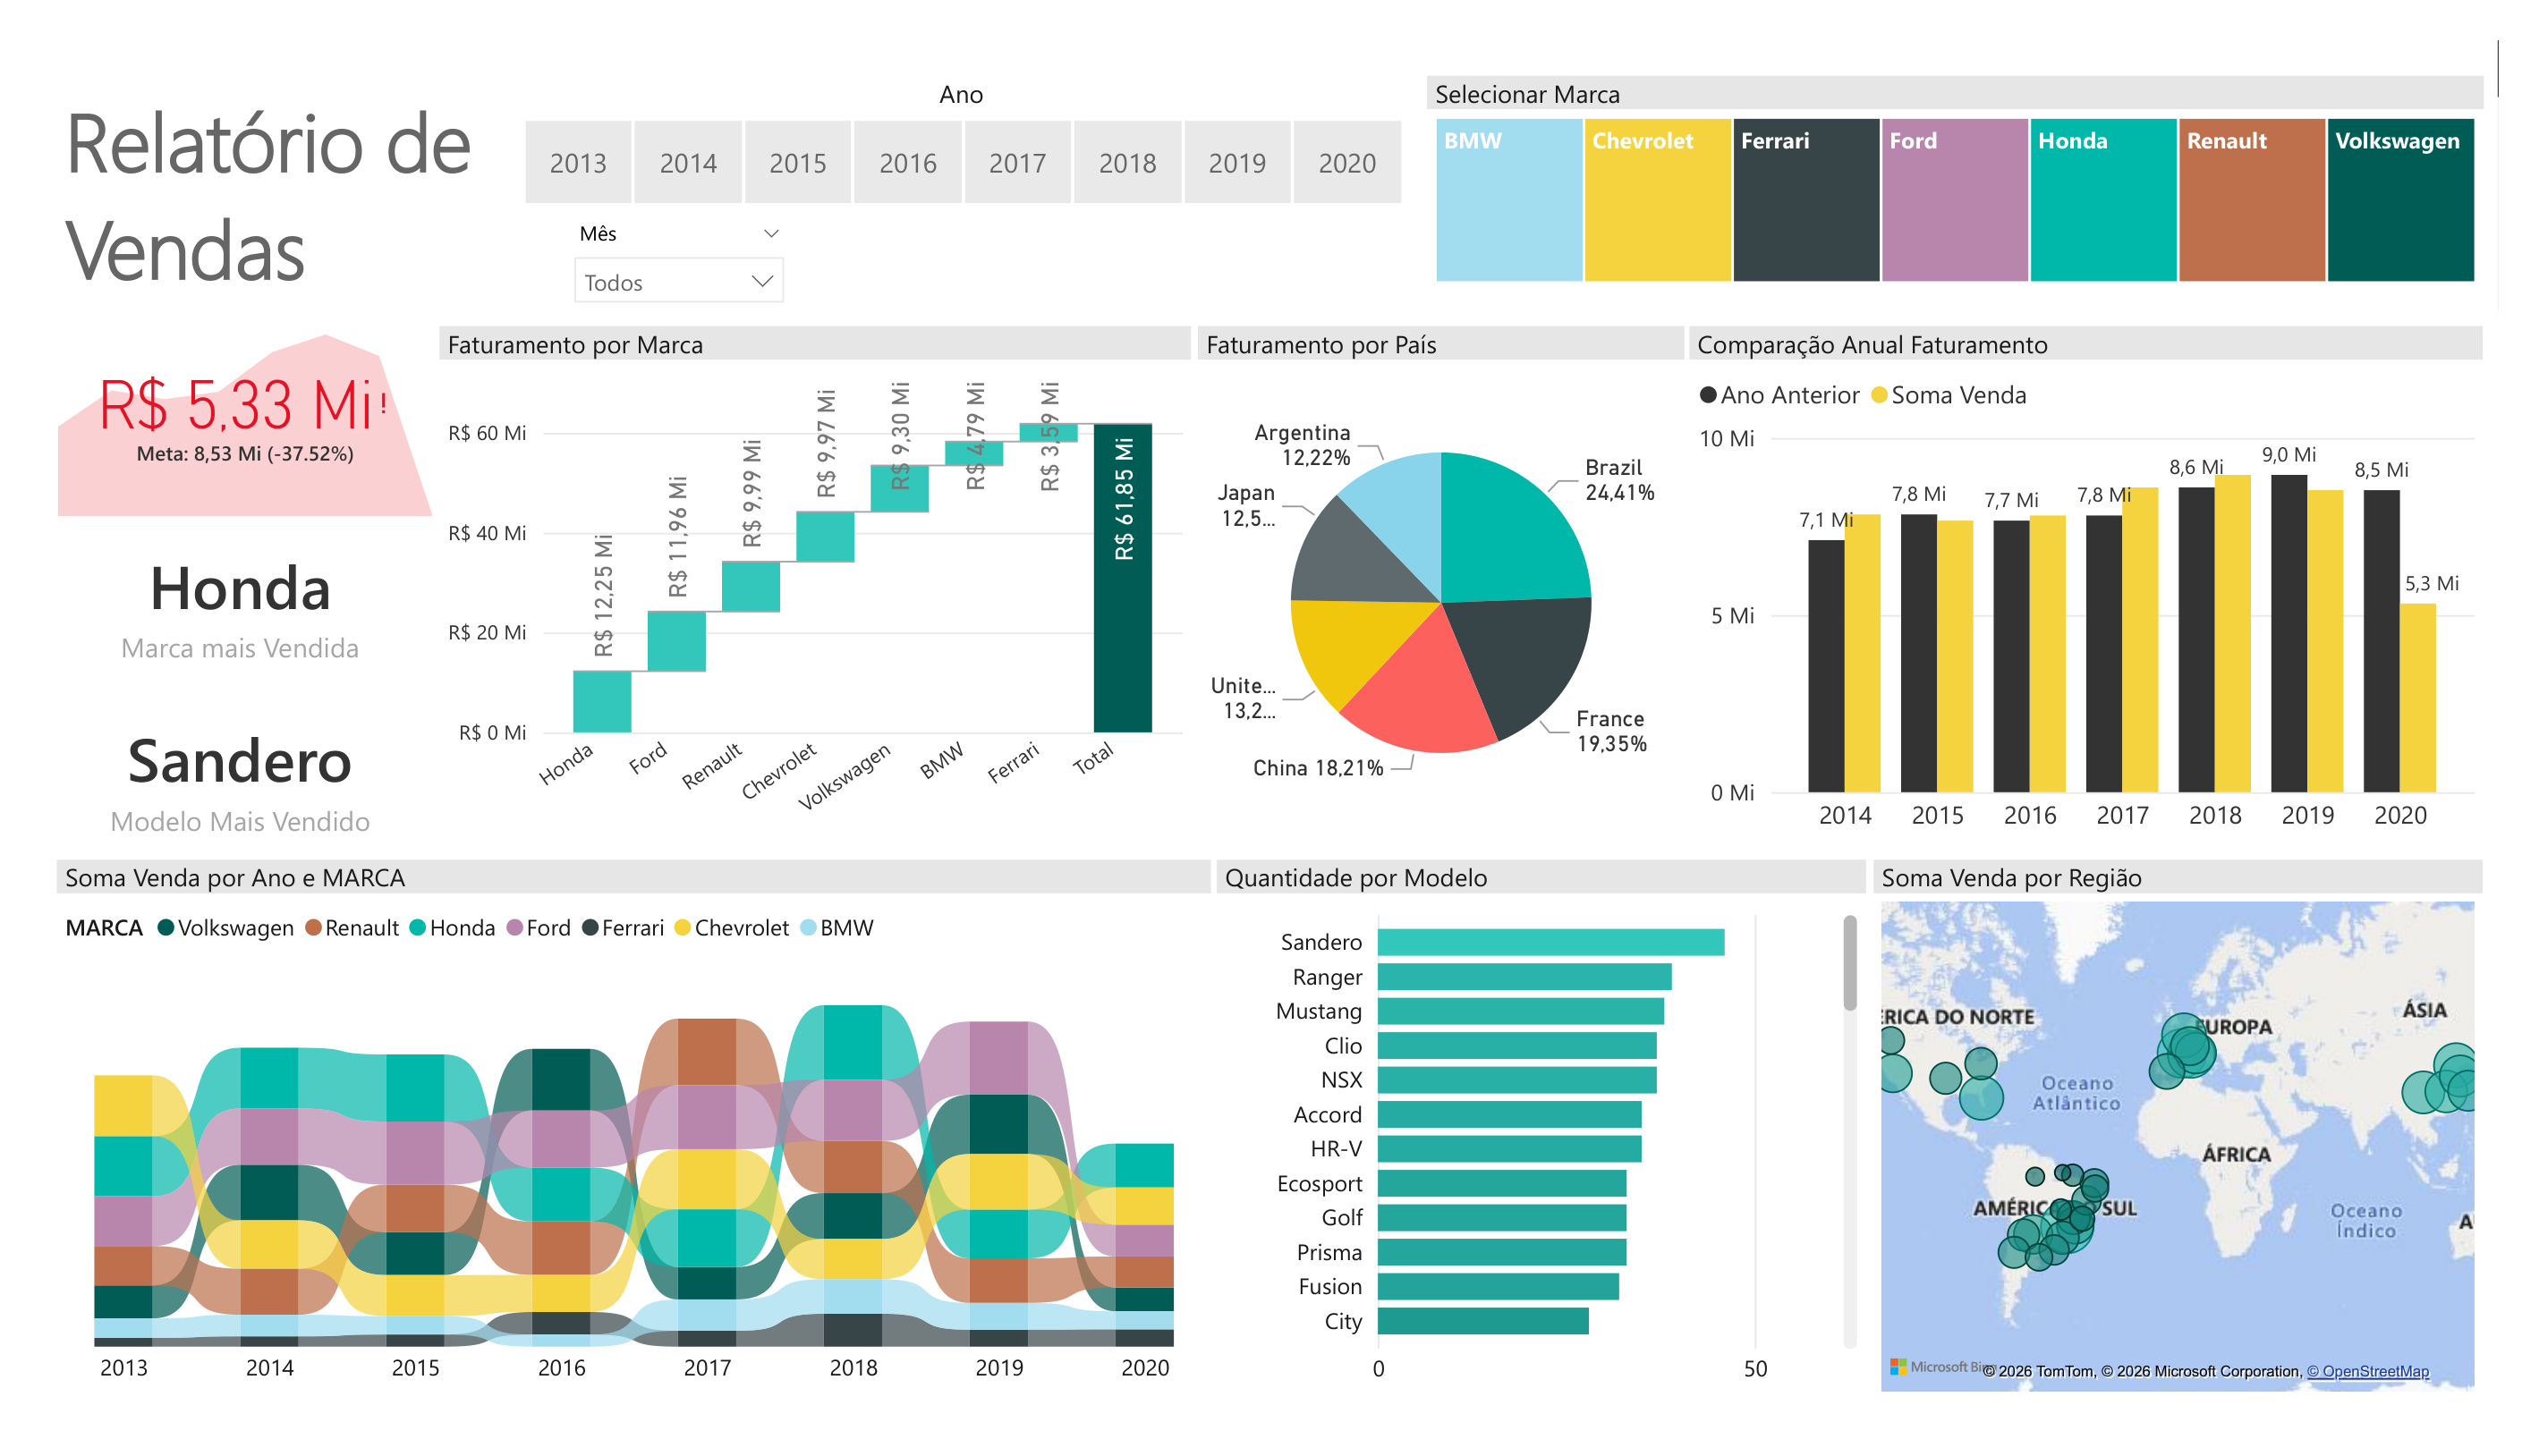

What the dashboard file says about the page in this screenshot:
{"tool":"powerbi","page":{"name":"Dashboard","canvas":[1465,820],"ordinal":0},"visuals":[{"type":"textbox","box":[10,21.7,265,140],"z":0},{"type":"slicer","title":"Ano","fields":{"Values":["Calendario.Ano"]},"box":[263.3,21.7,571.7,83.3],"z":1000},{"type":"slicer","fields":{"Values":["Calendario.Mês"]},"box":[308.3,101.7,145,60],"z":2000},{"type":"treemap","title":"Selecionar Marca","fields":{"Group":["base_vendas.MARCA"],"Values":["Count(base_vendas.MARCA)"]},"box":[826.7,21.7,630,128.3],"z":3000},{"type":"kpi","fields":{"Indicator":["base_vendas.Soma Venda"],"TrendLine":["Calendario.Ano"],"Goal":["base_vendas.Ano Anterior"]},"box":[5,170,233.3,118.3],"z":4000},{"type":"card","fields":{"Values":["Min(base_vendas.MARCA)"]},"box":[0,283.3,238.3,105],"z":5000},{"type":"card","fields":{"Values":["Min(base_vendas.MODELO)"]},"box":[0,388.3,238.3,100],"z":6000},{"type":"waterfallChart","title":"Faturamento por Marca","fields":{"Category":["base_vendas.MARCA","base_vendas.MODELO"],"Y":["base_vendas.Soma Venda"]},"box":[238.3,170,448.3,313.3],"z":7000},{"type":"pieChart","title":"Faturamento por País","fields":{"Category":["base_vendas.PAÍS","base_vendas.REGIÃO"],"Y":["base_vendas.Soma Venda"]},"box":[690,170,290,310],"z":8000},{"type":"clusteredColumnChart","title":"Comparação Anual Faturamento","fields":{"Category":["Calendario.Date.Variation.Hierarquia de datas.Ano","Calendario.Date.Variation.Hierarquia de datas.Trimestre","Calendario.Date.Variation.Hierarquia de datas.Mês","Calendario.Date.Variation.Hierarquia de datas.Dia"],"Y":["Calendario.Ano Anterior","base_vendas.Soma Venda"]},"box":[983.3,170,473.3,311.7],"z":9000},{"type":"ribbonChart","fields":{"Y":["base_vendas.Soma Venda"],"Series":["base_vendas.MARCA"],"Category":["Calendario.Date.Variation.Hierarquia de datas.Ano","Calendario.Date.Variation.Hierarquia de datas.Mês","Calendario.Date.Variation.Hierarquia de datas.Dia"]},"box":[10,488.3,688.3,321.7],"z":10000},{"type":"clusteredBarChart","title":"Quantidade por Modelo","fields":{"Category":["base_vendas.MODELO"],"Y":["CountNonNull(base_vendas.ID)"]},"box":[701.7,488.3,386.7,321.7],"z":11000},{"type":"map","title":"Soma Venda por Região","fields":{"Category":["base_vendas.REGIÃO"],"Size":["base_vendas.Soma Venda"]},"box":[1093.3,488.3,363.3,321.7],"z":12000}]}

Visuals, with their boxes in screenshot pixels (x1, y1, x2, y2), scaled from the page's 1465x820 canvas onto the 2539x1456 screenshot:
textbox: x1=17, y1=38, x2=477, y2=287
"Ano" slicer: x1=456, y1=38, x2=1448, y2=186
slicer - Calendario.Mês: x1=534, y1=181, x2=785, y2=287
"Selecionar Marca" treemap: x1=1432, y1=38, x2=2525, y2=267
kpi - base_vendas.Soma Venda x Calendario.Ano: x1=9, y1=302, x2=413, y2=512
card - Min(base_vendas.MARCA): x1=0, y1=503, x2=413, y2=690
card - Min(base_vendas.MODELO): x1=0, y1=690, x2=413, y2=867
"Faturamento por Marca" waterfallChart: x1=413, y1=302, x2=1190, y2=859
"Faturamento por País" pieChart: x1=1196, y1=302, x2=1698, y2=852
"Comparação Anual Faturamento" clusteredColumnChart: x1=1704, y1=302, x2=2525, y2=855
ribbonChart - base_vendas.Soma Venda x base_vendas.MARCA: x1=17, y1=867, x2=1210, y2=1438
"Quantidade por Modelo" clusteredBarChart: x1=1216, y1=867, x2=1886, y2=1438
"Soma Venda por Região" map: x1=1895, y1=867, x2=2525, y2=1438
